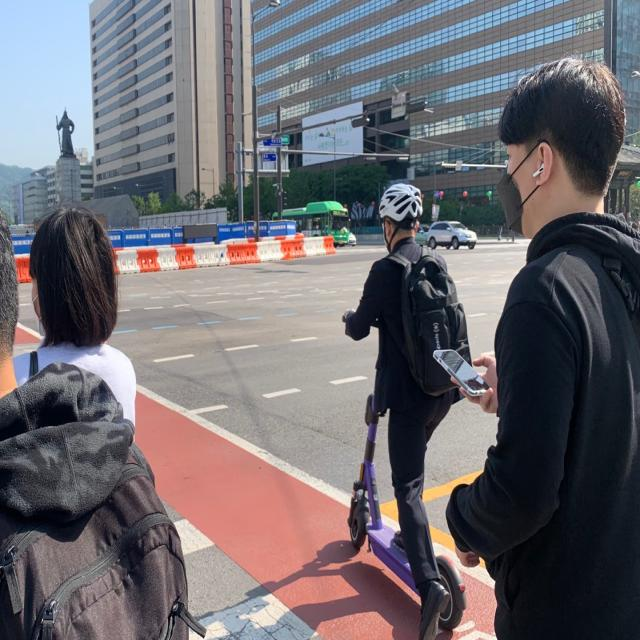helmet: (340, 179, 476, 640)
